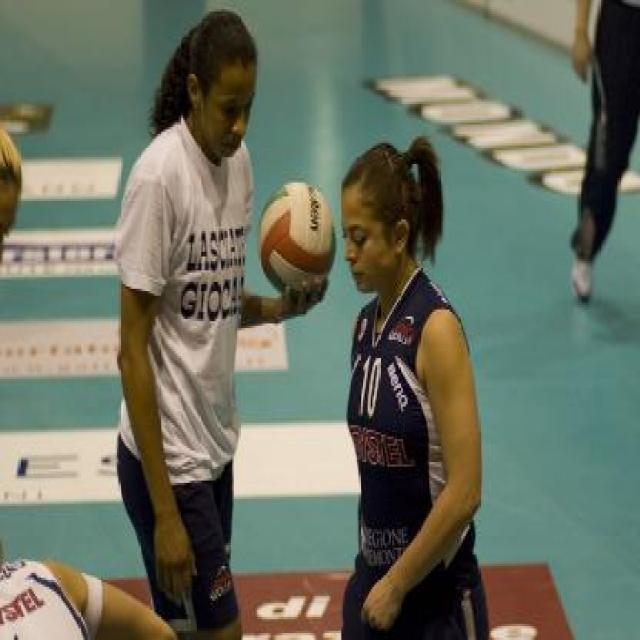volleyball: (256, 181, 336, 296)
